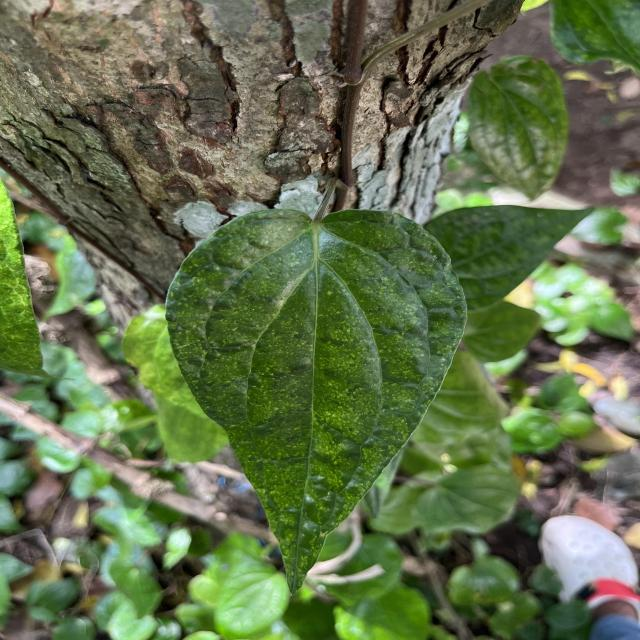Piper betle: (164, 206, 470, 598)
